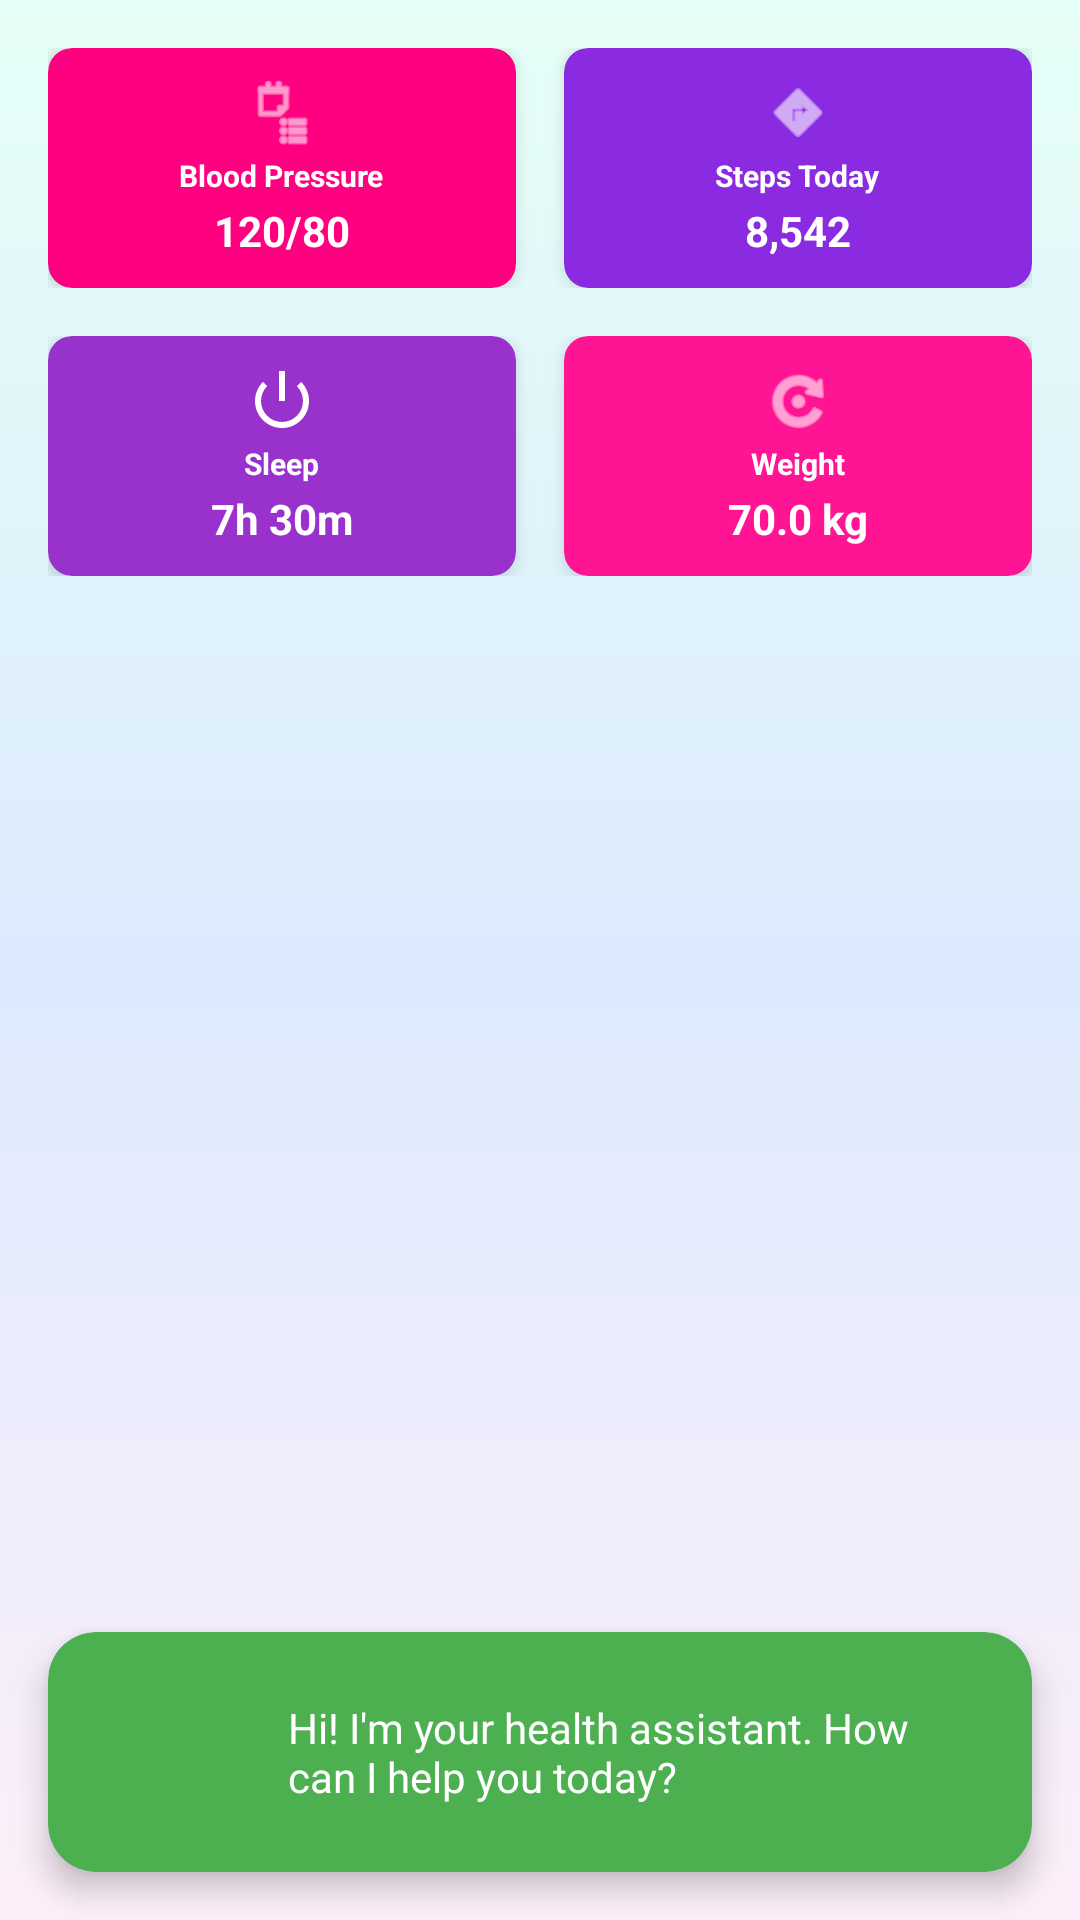

Icon bounding boxes for this 1080w x 1920h phone screenshot, format (x1, y1, x2, y2):
agenda: (257, 81, 308, 145)
directions: (773, 88, 823, 137)
lock power off: (255, 371, 309, 428)
rotate: (772, 374, 824, 428)
